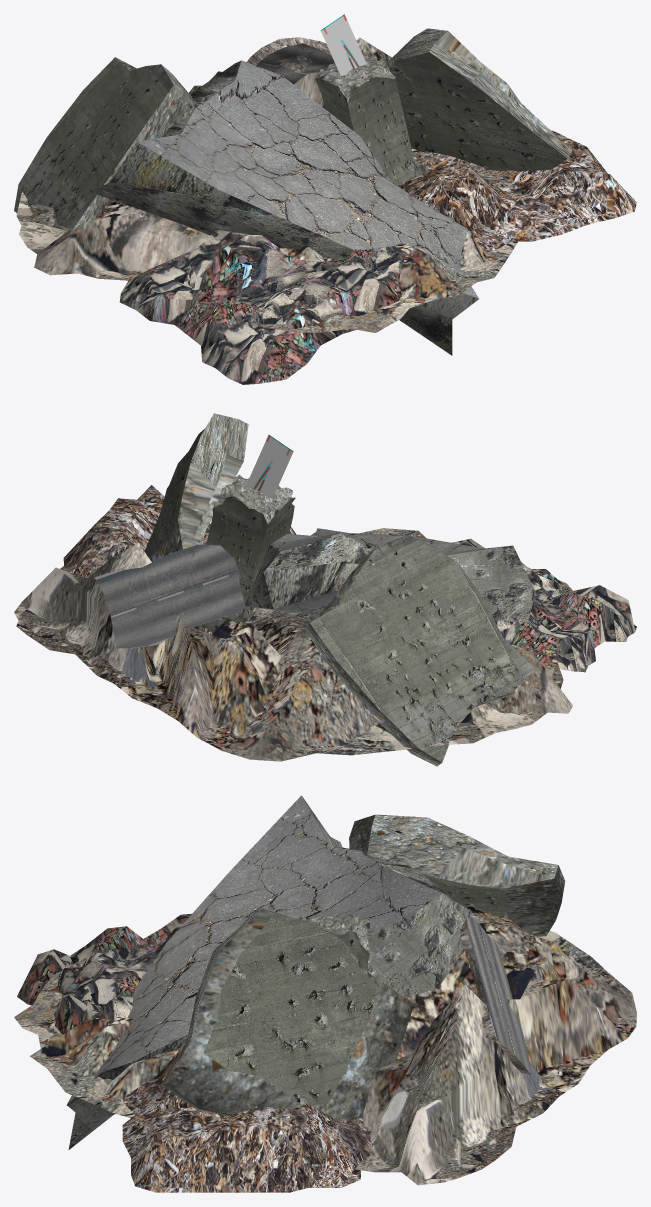
File: ComboPile2.FBX
3 views of the same model, one above another, from view 1: azimuth 30°, elevation 25°; view 2: azimuth 150°, elevation 25°; view 3: azimuth 270°, elevation 25° (orthographic). The views are drawn at different scales.
Visible parts, largest first — view 1: ConcreteChunk2, GroundPlane1, GroundPlane3, ConcreteChunk3, ConcreteChunk1, GroundPlane2, BrokenPillar, RoadChunk, Rebar, Rebar001; view 2: GroundPlane3, ConcreteChunk1, ConcreteChunk2, RoadChunk, GroundPlane1, ConcreteChunk3, BrokenPillar, GroundPlane2, Rebar; view 3: GroundPlane3, ConcreteChunk3, ConcreteChunk2, GroundPlane2, ConcreteChunk1, GroundPlane1, RoadChunk, BrokenPillar.
Boxes of the visible parts, x1,y1,x2,y2 form: ConcreteChunk2: (89, 60, 478, 355); GroundPlane1: (119, 230, 411, 384); GroundPlane3: (16, 37, 517, 332); ConcreteChunk3: (386, 28, 572, 171); ConcreteChunk1: (14, 57, 194, 231); GroundPlane2: (397, 130, 636, 252); BrokenPillar: (315, 53, 430, 184); RoadChunk: (247, 37, 334, 84); Rebar: (320, 14, 366, 75); Rebar001: (326, 15, 366, 74); GroundPlane3: (14, 528, 575, 761); ConcreteChunk1: (304, 534, 535, 766); ConcreteChunk2: (245, 528, 535, 622); RoadChunk: (94, 544, 246, 648); GroundPlane1: (407, 531, 636, 672); ConcreteChunk3: (144, 413, 248, 562); BrokenPillar: (197, 474, 295, 632); GroundPlane2: (60, 485, 296, 634); Rebar: (245, 435, 293, 498); GroundPlane3: (14, 906, 636, 1185); ConcreteChunk3: (161, 908, 414, 1120); ConcreteChunk2: (67, 795, 469, 1149); GroundPlane2: (122, 1045, 371, 1192); ConcreteChunk1: (349, 814, 565, 936); GroundPlane1: (17, 913, 191, 1034); RoadChunk: (460, 917, 531, 1074); BrokenPillar: (299, 914, 369, 970).
Size of the model in its own units: 7.99 by 3.82 by 7.07.
12 materials, 12 textured.
